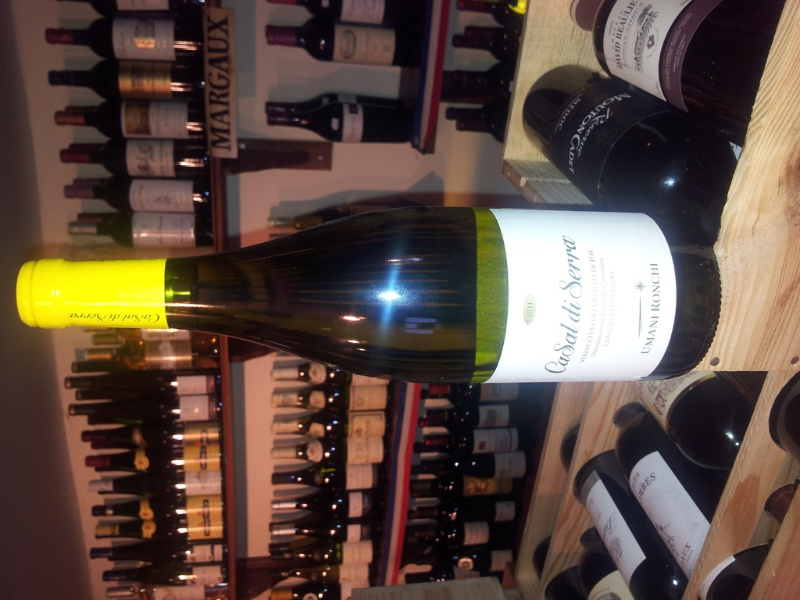wine: (40, 2, 797, 600), (13, 203, 725, 382)
